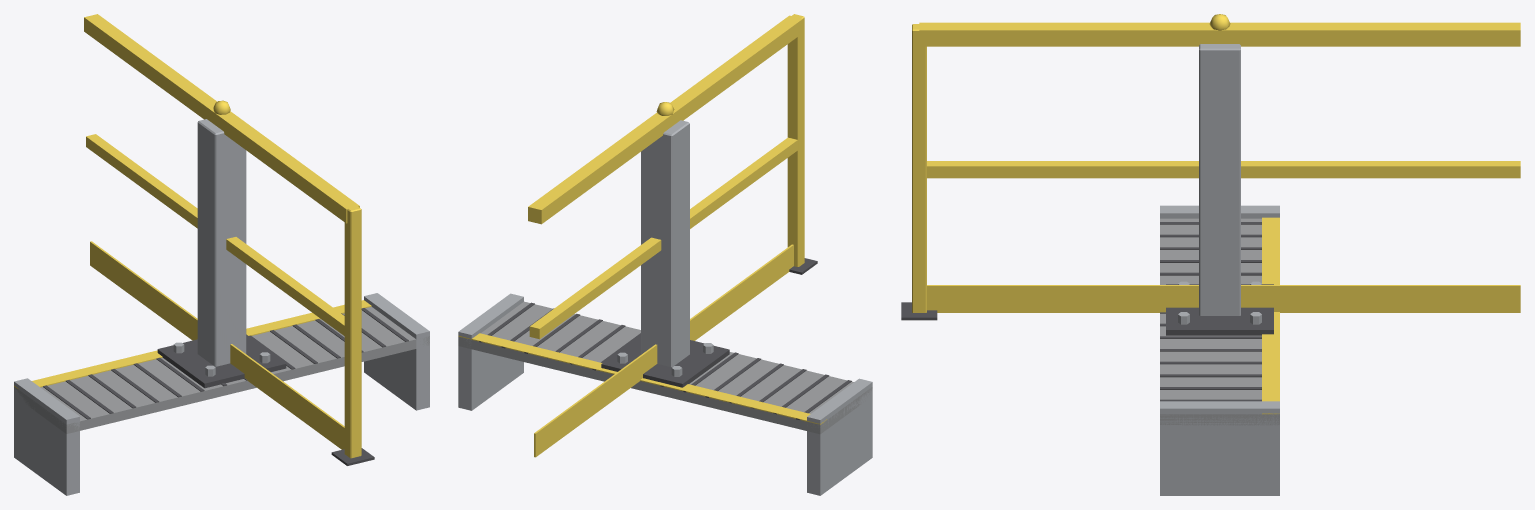
File: factory_walks.glb
The picture shows the model from 3 angles, left to right: view 1: azimuth 30°, elevation 25°; view 2: azimuth 150°, elevation 25°; view 3: azimuth 270°, elevation 25°; orthographic projection. The views are drawn at different scales.
Parts seen in each view (by area): view 1: fw_step_mesh, fw_rail_mesh, fw_leg_mesh; view 2: fw_step_mesh, fw_rail_mesh, fw_leg_mesh; view 3: fw_rail_mesh, fw_step_mesh, fw_leg_mesh.
Part boxes in pixels (bbox=[...]): fw_step_mesh: bbox=[14, 293, 429, 495]; fw_rail_mesh: bbox=[84, 14, 374, 465]; fw_leg_mesh: bbox=[157, 119, 286, 388]; fw_step_mesh: bbox=[458, 293, 872, 495]; fw_rail_mesh: bbox=[528, 14, 817, 457]; fw_leg_mesh: bbox=[601, 120, 729, 387]; fw_rail_mesh: bbox=[901, 22, 1520, 320]; fw_step_mesh: bbox=[1160, 205, 1279, 495]; fw_leg_mesh: bbox=[1166, 44, 1273, 335].
Bounding box in the file's own units: 1.6 × 1.39 × 2.06.
